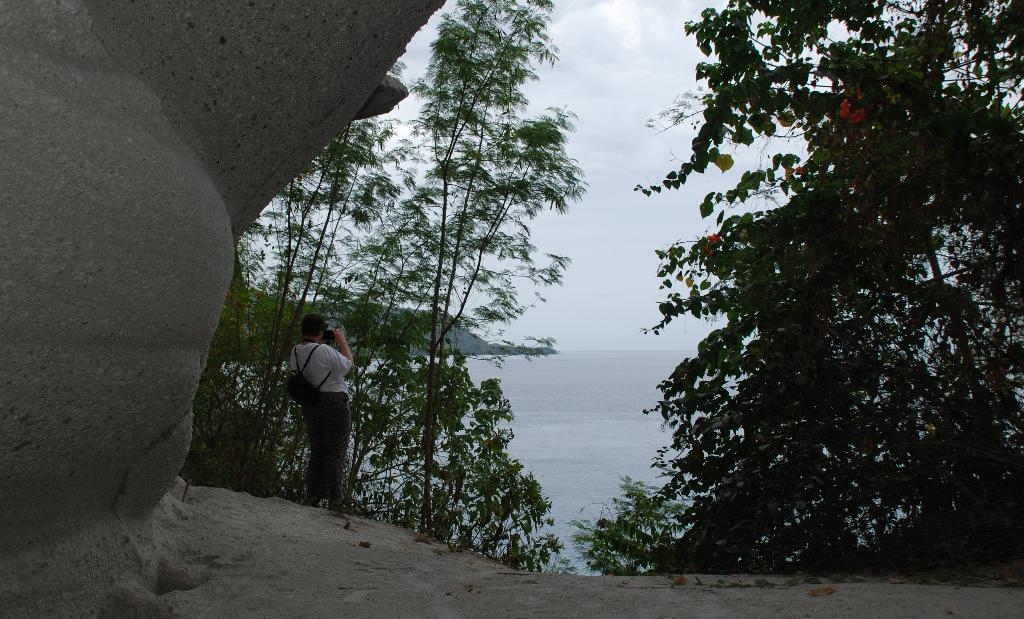Tree: (188, 0, 587, 583), (590, 28, 1001, 583)
